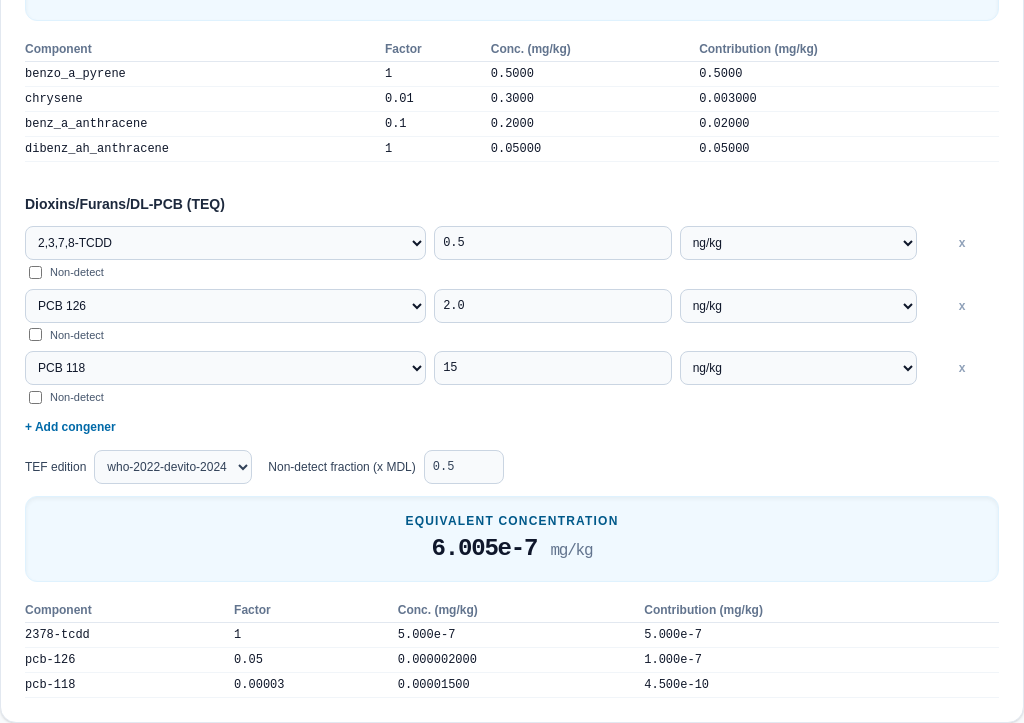
Test: CumulativeEffectsCalculator › fail-closed: an out-of-range non-detect fraction (>1) withholds the TEQ total
(page scrolled)
Replace the text in the number field with test id "cum-teq-nd-fraction" with "2". click: [464, 466]
box: [424,450,504,484]
(page scrolled)
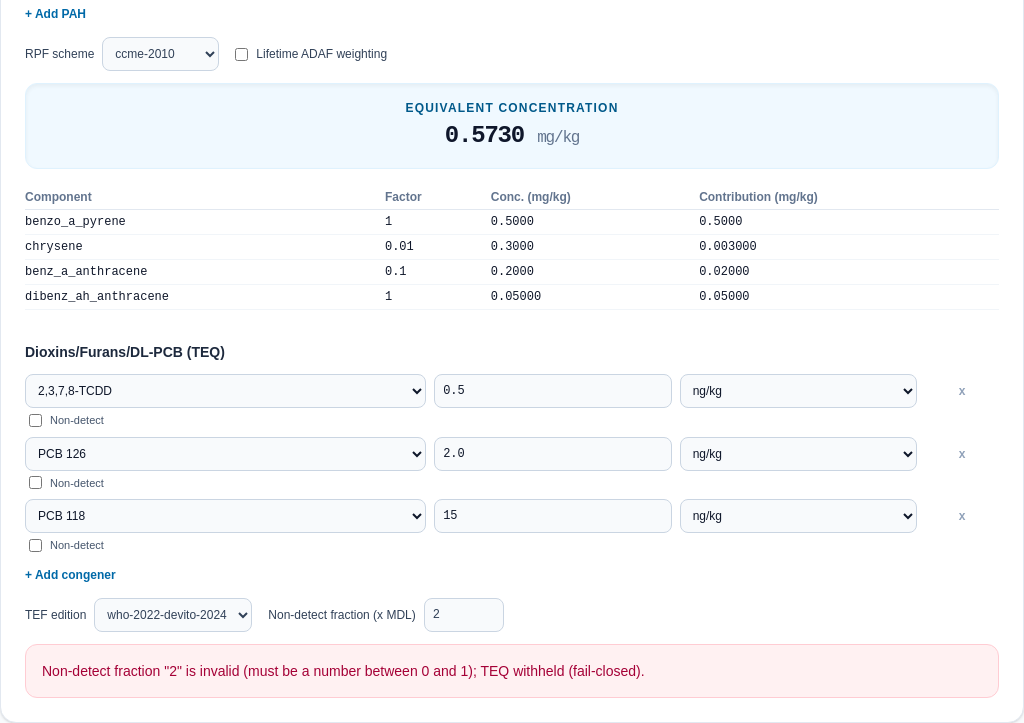
Now the message with test id "cum-teq-error" shows "invalid", box [42,662,645,678]
Now the message with test id "cum-teq-error" shows "fail-closed", box [42,662,645,678]
Now the element with test id "cum-teq-value" is gone
